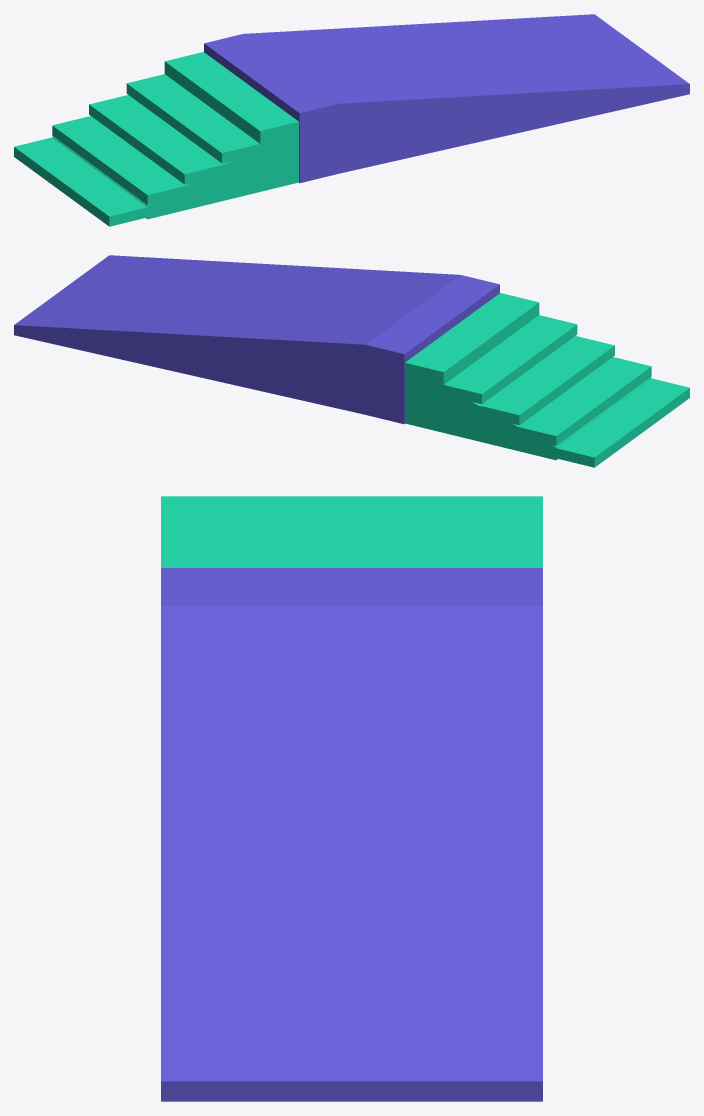
File: Ramp1.fbx
The picture shows the model from 3 angles, top to bottom: view 1: azimuth 30°, elevation 25°; view 2: azimuth 150°, elevation 25°; view 3: azimuth 270°, elevation 25°; orthographic projection. The views are drawn at different scales.
Parts seen in each view (by area): view 1: Slide; view 2: Slide; view 3: Slide.
Boxes of the visible parts, x1,y1,x2,y2 form: Slide: (14,14,689,226); Slide: (14,255,689,467); Slide: (161,496,542,1101).
Size of the model in its own units: 1194 by 150 by 340.
